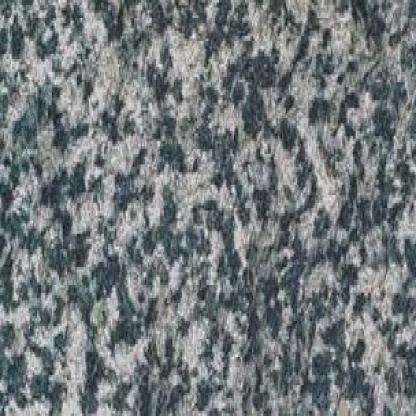Igneous_Diorite: (1, 5, 416, 414)
